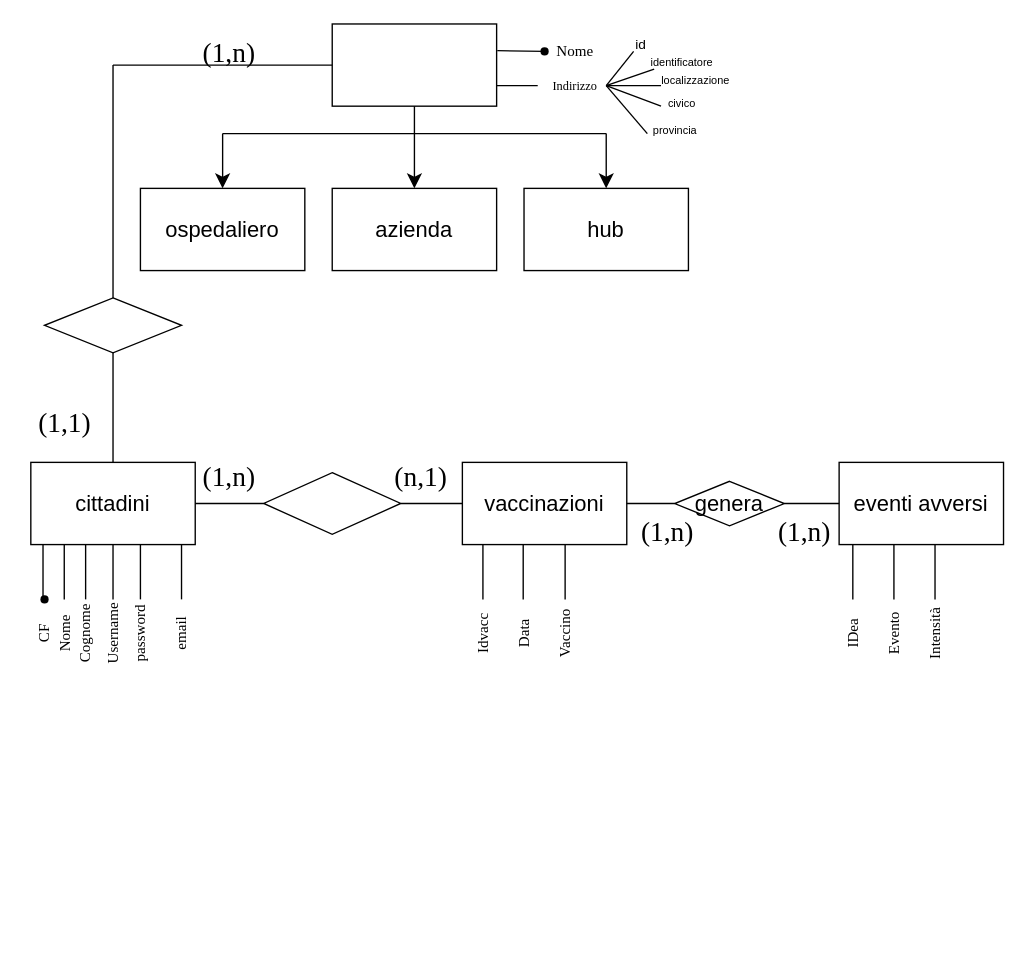
The diagram is 1028 pixels wide and 980 high, and some of its shapes have lost their labels. The centre of each missing label's shape, as x and y in pixels:
"centri vaccinali" goes at (x=414, y=64).
"prenotano" goes at (x=331, y=502).
"registrano" goes at (x=112, y=325).
